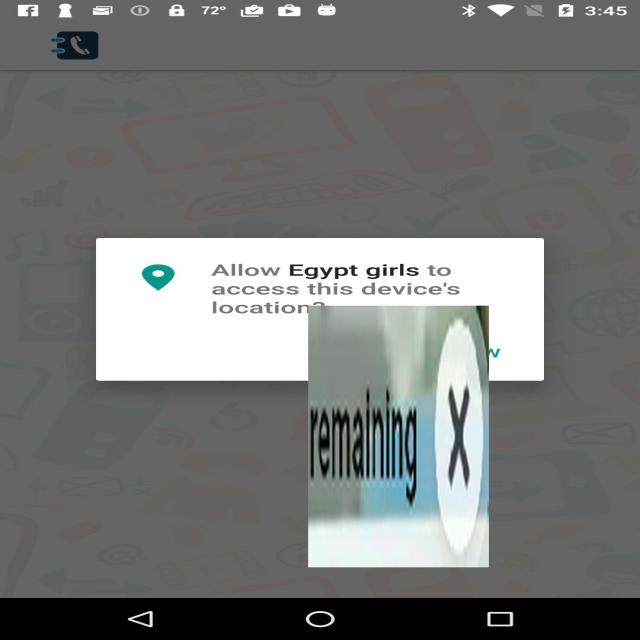misdirection: (308, 306, 489, 567)
